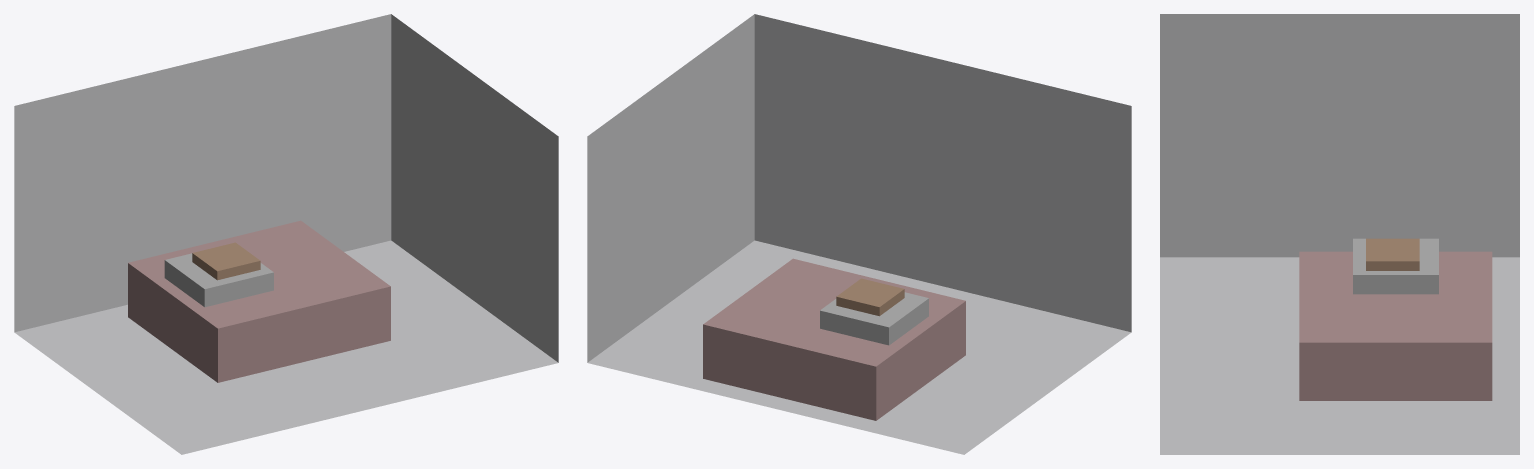
File: current_layout.glb
3 renders of one model, left to right at view 1: azimuth 30°, elevation 25°; view 2: azimuth 150°, elevation 25°; view 3: azimuth 270°, elevation 25°, orthographic. The views are drawn at different scales.
Visible parts, largest first — view 1: room, bed, studyTable, chair; view 2: room, bed, studyTable, chair; view 3: room, bed, studyTable, chair.
Part boxes in pixels (bbox=[...]): room: bbox=[14, 14, 558, 454]; bed: bbox=[128, 220, 390, 382]; studyTable: bbox=[164, 253, 273, 307]; chair: bbox=[192, 242, 260, 280]; room: bbox=[587, 14, 1131, 454]; bed: bbox=[703, 258, 965, 420]; studyTable: bbox=[820, 292, 928, 345]; chair: bbox=[836, 278, 904, 316]; room: bbox=[1160, 14, 1519, 454]; bed: bbox=[1299, 251, 1492, 400]; studyTable: bbox=[1353, 238, 1438, 294]; chair: bbox=[1366, 238, 1419, 270].
Size of the model in its own units: 4.36 by 2.5 by 3.35.
